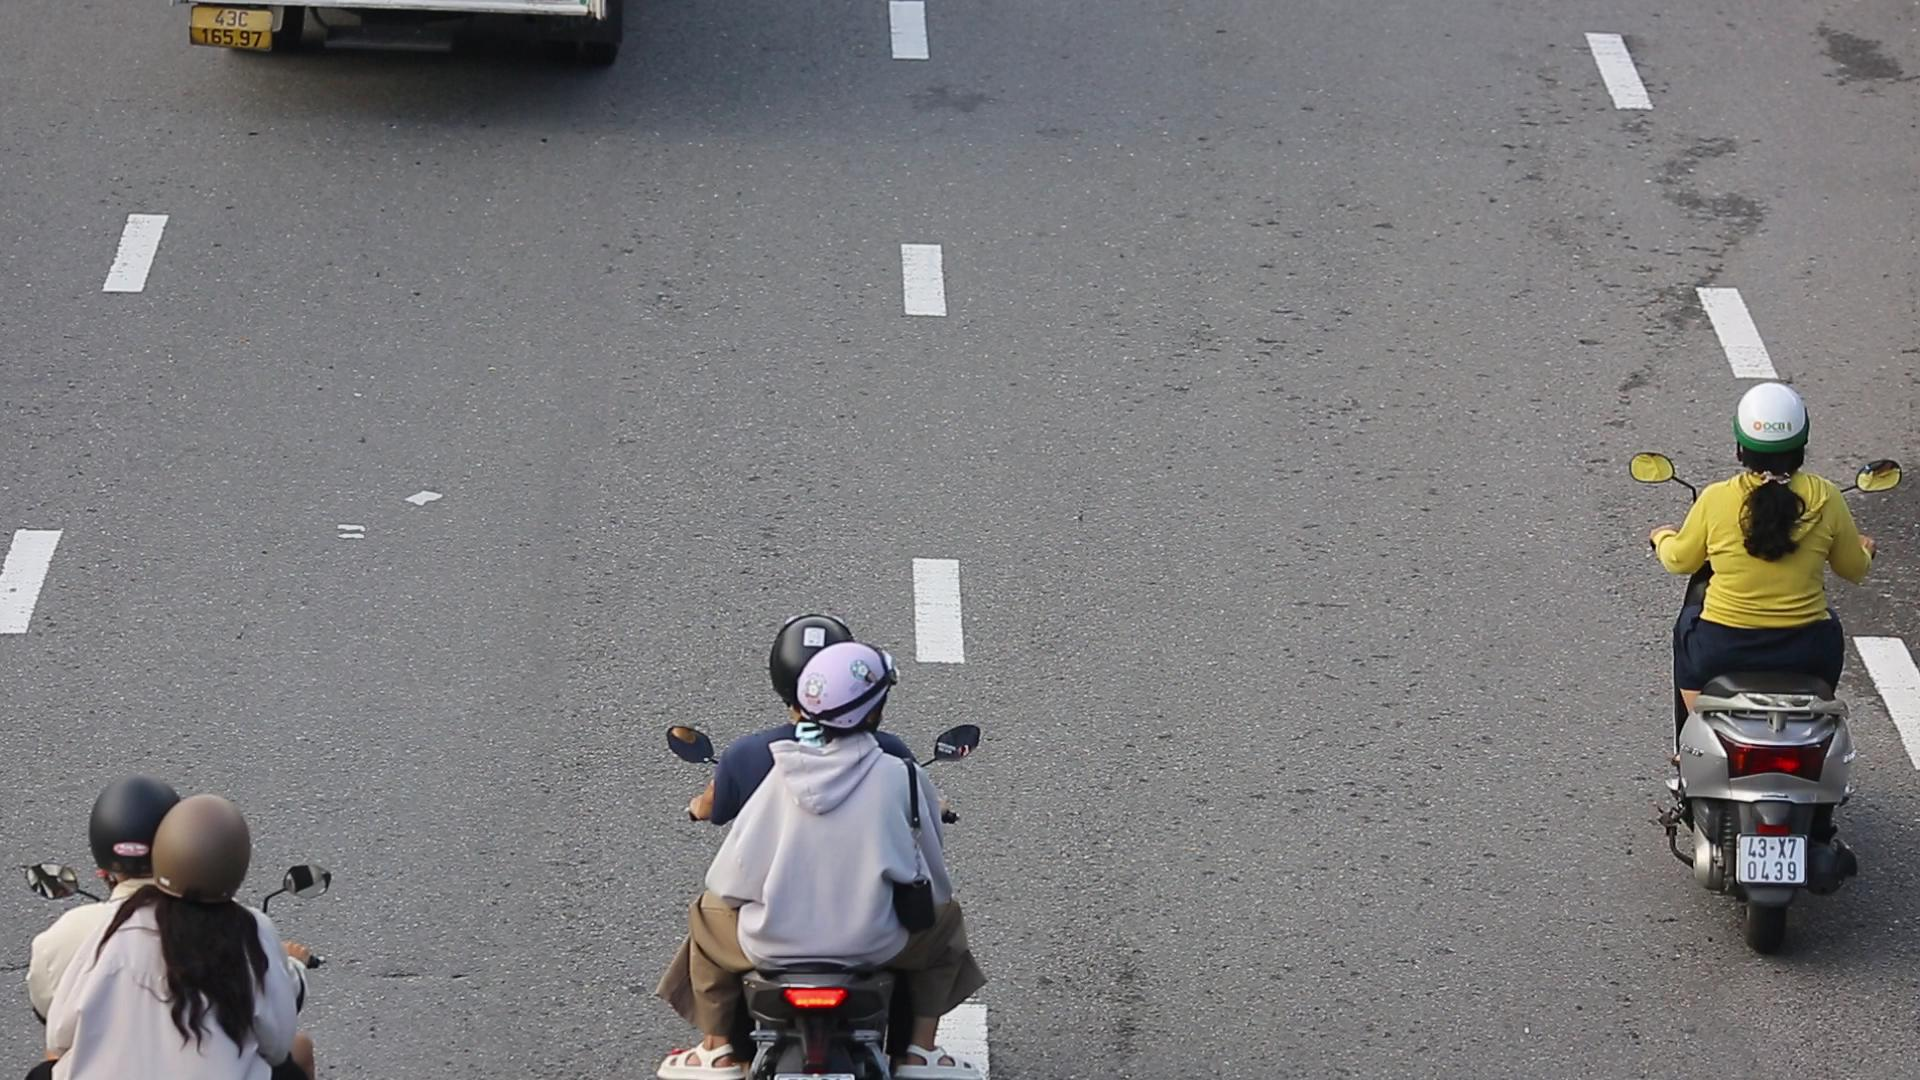motobike: (1646, 368, 1902, 973)
